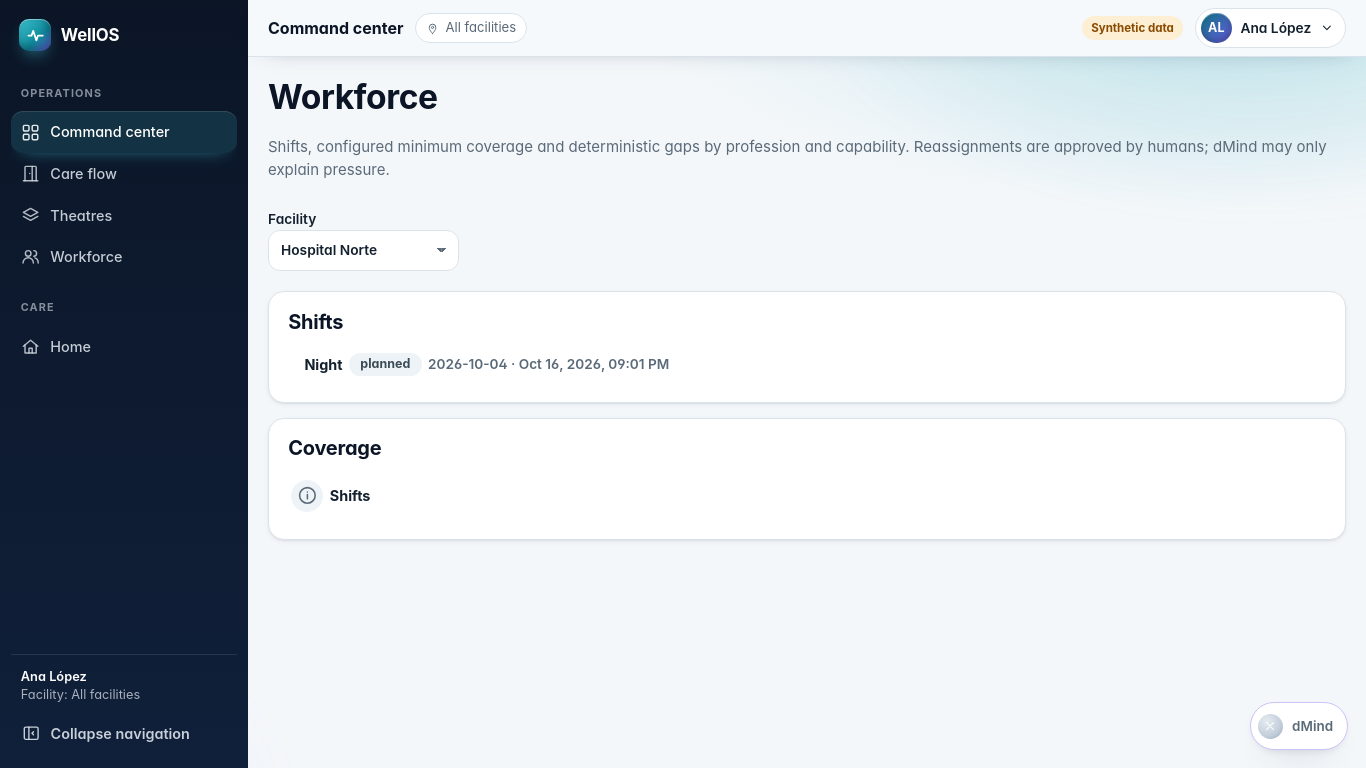
Test: /operations/workforce and /operations/theatres › renders capability-specific staffing gaps as an accessible table
Click the button "Night planned 2026-10-04 · Oct 16, 2026, 09:01 PM". click: (323, 364)
box: top-left (288, 344), bottom-right (1326, 385)
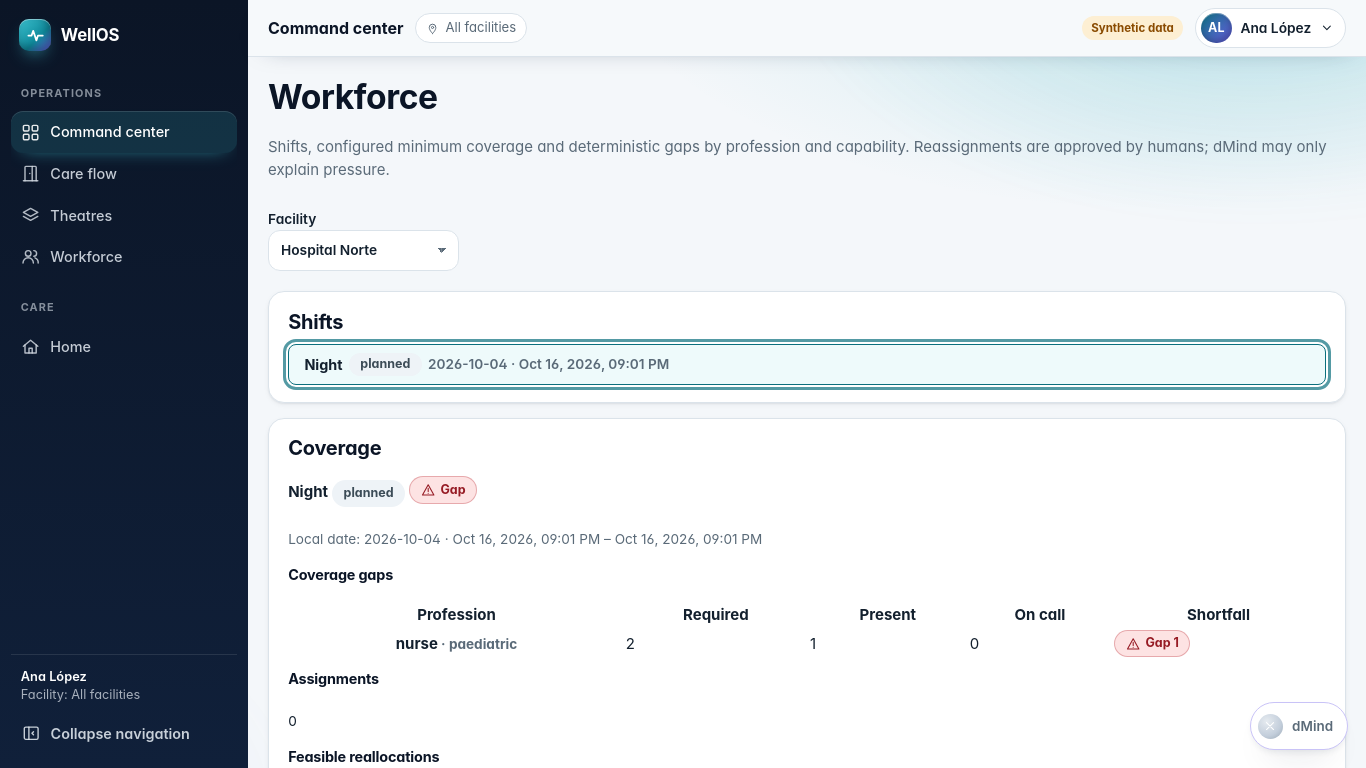
Result: the column heading "nurse · paediatric" is shown at top-left (290, 629), bottom-right (623, 658)
Result: the table with test id "wf-gaps" shows "paediatric" at top-left (449, 636), bottom-right (517, 652)
